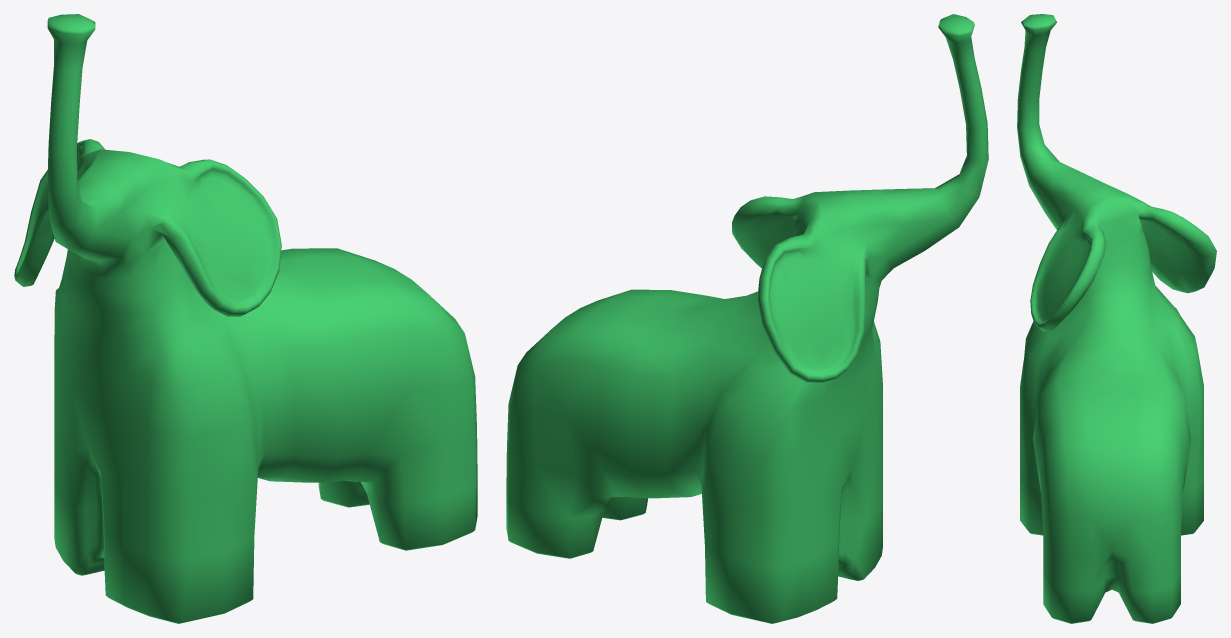
The model's file is Elephant.fbx.
3 views of the same model, side by side, from view 1: azimuth 30°, elevation 25°; view 2: azimuth 150°, elevation 25°; view 3: azimuth 270°, elevation 25° (orthographic). The views are drawn at different scales.
Visible parts, largest first — view 1: Elephant; view 2: Elephant; view 3: Elephant.
Part boxes in pixels (x1,y1,x2,y2): Elephant: (14, 14, 477, 623); Elephant: (506, 14, 988, 623); Elephant: (1017, 14, 1216, 623).
Size of the model in its own units: 13.07 by 16.77 by 6.71.
